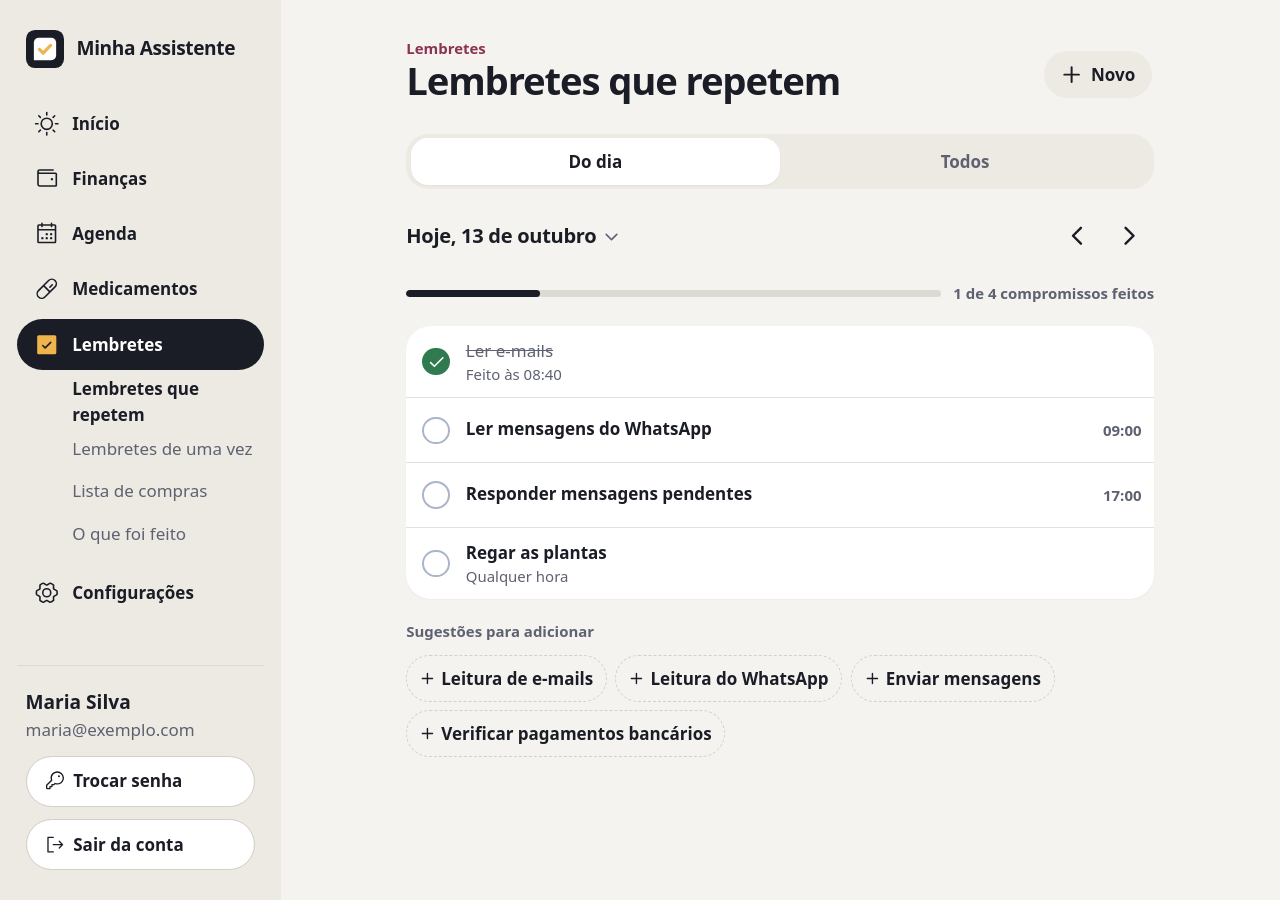
tarefas do dia › tocar na linha marca e desmarca
Click the checkbox named "Ler mensagens do WhatsApp" at [436, 430], box [410,405,462,456]
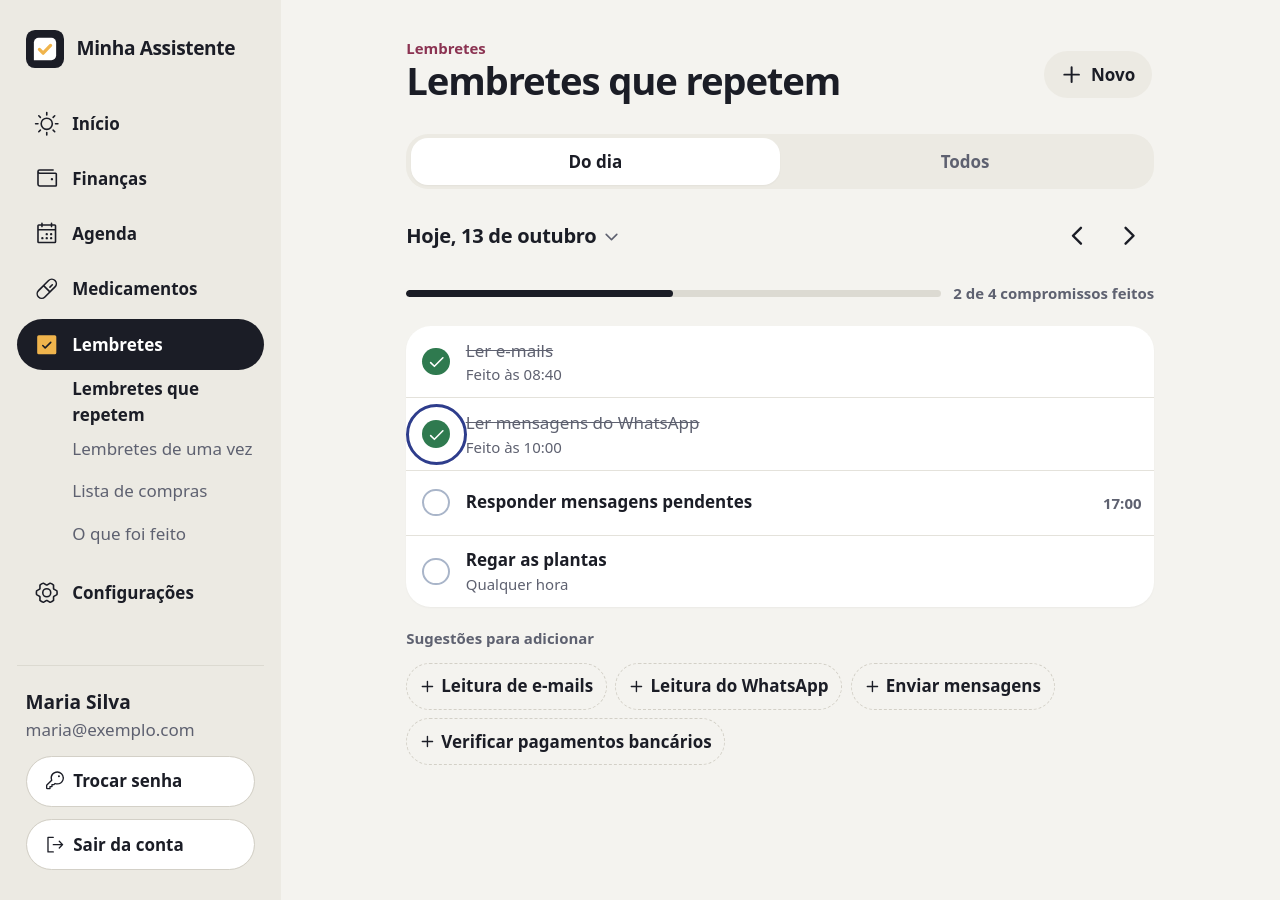
Result: the text "2 de 4 compromissos feitos" is shown at [953,283,1154,304]
Click the checkbox named "Ler mensagens do WhatsApp" at [436, 434], box [410,409,462,460]
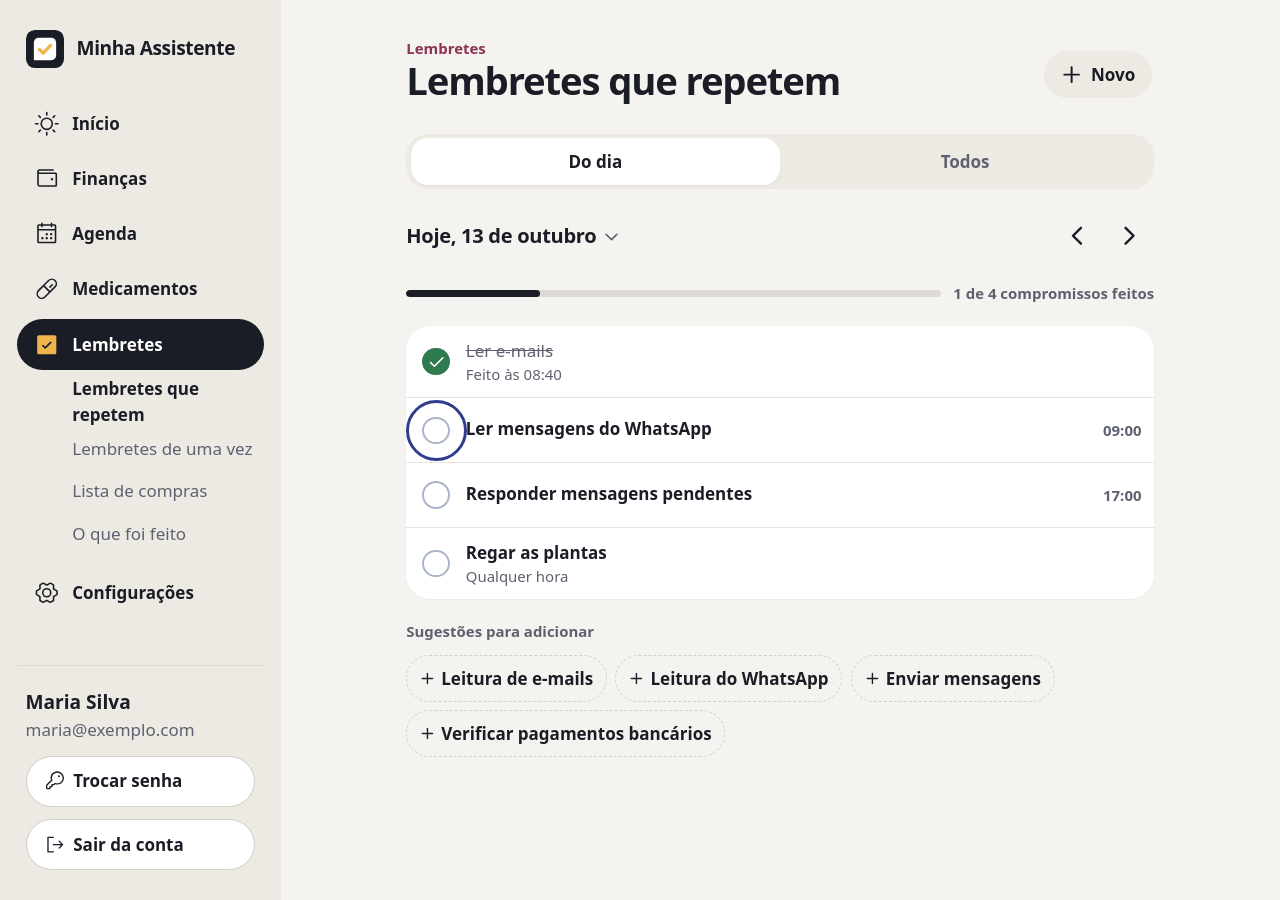
Result: the text "1 de 4 compromissos feitos" is shown at [953,283,1154,304]
